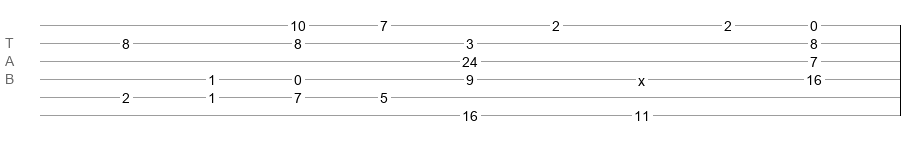0: (294, 72, 302, 82), (810, 18, 818, 28)
1: (208, 72, 216, 82), (208, 90, 216, 100)
10: (290, 18, 306, 28)
11: (634, 108, 650, 118)
16: (462, 108, 478, 118), (806, 72, 822, 82)
2: (122, 90, 130, 100), (552, 18, 560, 28), (724, 18, 732, 28)
24: (462, 54, 478, 64)
3: (466, 36, 474, 46)
5: (380, 90, 388, 100)
7: (294, 90, 302, 100), (380, 18, 388, 28), (810, 54, 818, 64)
8: (122, 36, 130, 46), (294, 36, 302, 46), (810, 36, 818, 46)
9: (466, 72, 474, 82)
x: (638, 73, 645, 81)
